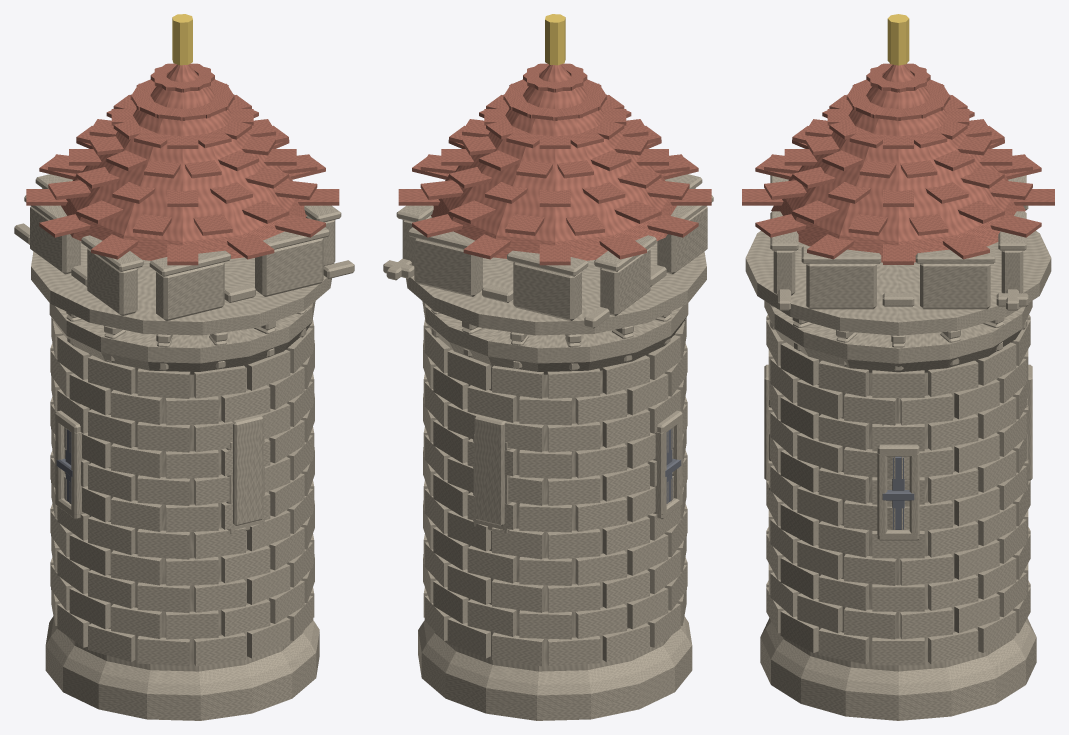
File: fantasy-mmo-city-and-townsfolk-wall-gate-tower-1cf4e6ef__32718.glb
3 views of the same model, side by side, from view 1: azimuth 30°, elevation 25°; view 2: azimuth 150°, elevation 25°; view 3: azimuth 270°, elevation 25° (orthographic).
Visible parts, largest first — view 1: wall-gate-tower; view 2: wall-gate-tower; view 3: wall-gate-tower.
Boxes of the visible parts, x1=… form: wall-gate-tower: x1=14, y1=14, x2=354, y2=720; wall-gate-tower: x1=383, y1=14, x2=713, y2=720; wall-gate-tower: x1=742, y1=14, x2=1054, y2=720.
Bounding box in the file's own units: 4.67 × 10.6 × 4.67.
4 materials, 2 textured.
